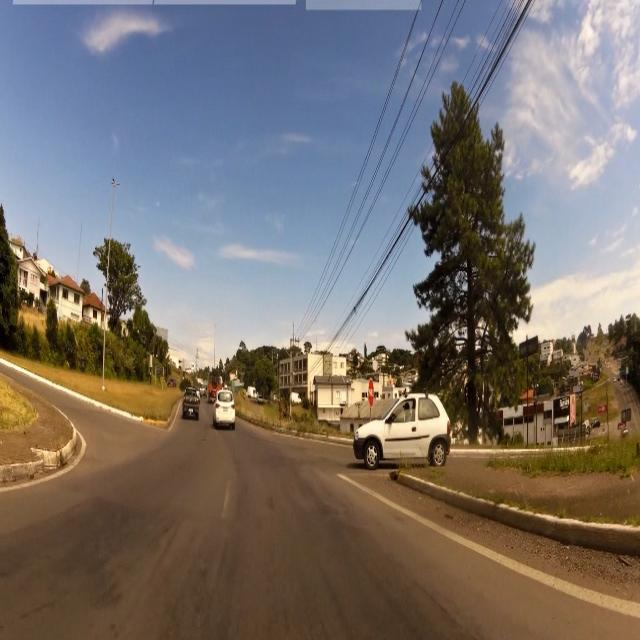R-2: (366, 375, 377, 411)
